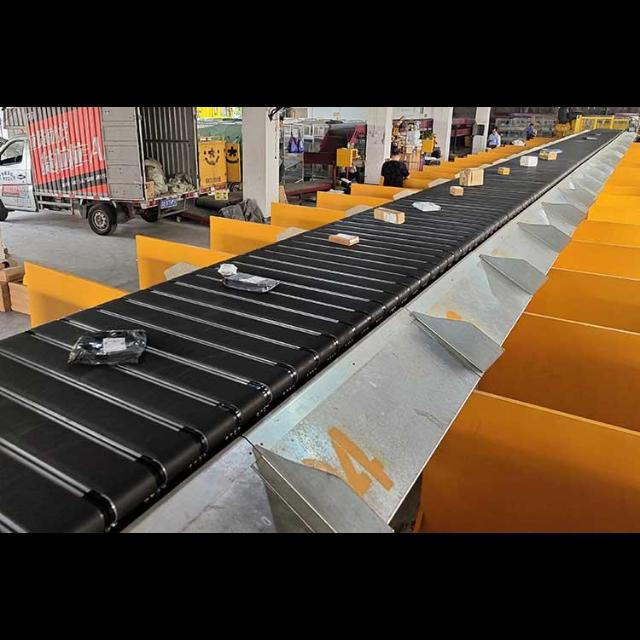box: (374, 208, 404, 224), (459, 168, 483, 186), (538, 150, 557, 160), (520, 156, 538, 166), (450, 186, 463, 196), (497, 168, 509, 174)
mailer: (68, 330, 146, 365), (224, 273, 279, 292), (329, 233, 358, 245), (412, 202, 440, 211)
